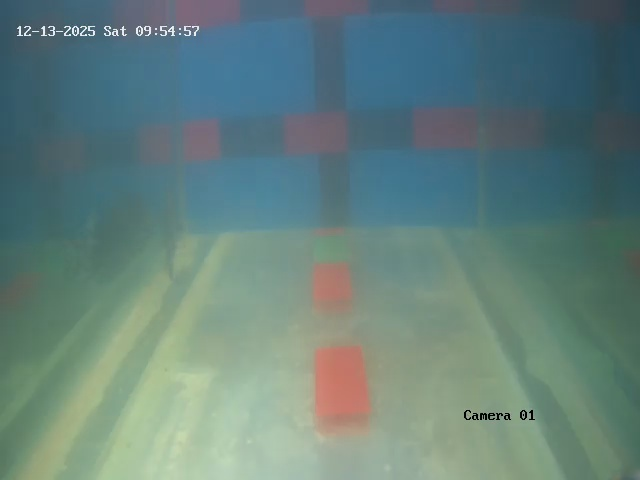fish: (143, 203, 207, 293)
